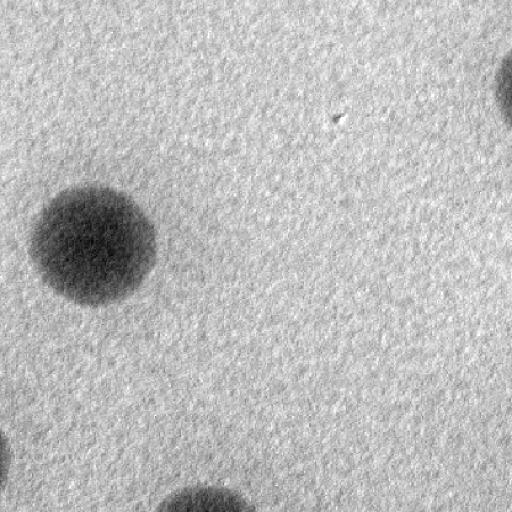Nanoparticles: (31, 186, 161, 307), (156, 486, 257, 512), (494, 47, 512, 120), (0, 431, 13, 493)
